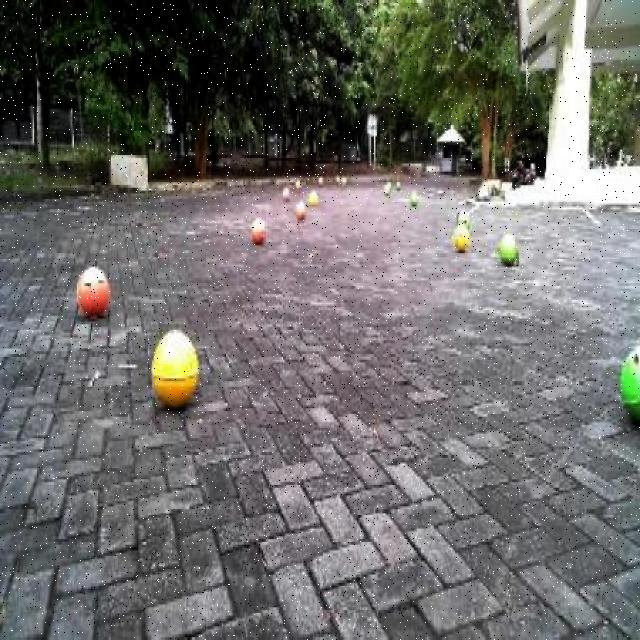buoy: (150, 327, 201, 417), (75, 257, 113, 323), (617, 331, 639, 440), (496, 228, 519, 270), (452, 219, 472, 252), (249, 211, 267, 244), (294, 198, 309, 225), (458, 207, 472, 231)
